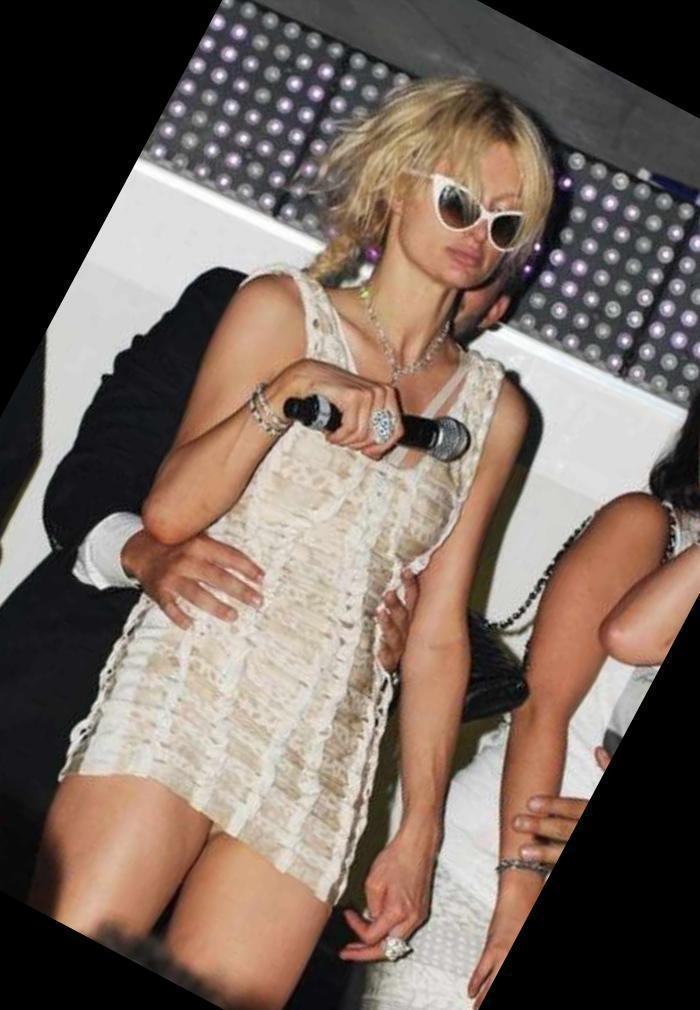Drunk: (411, 132, 519, 287)
